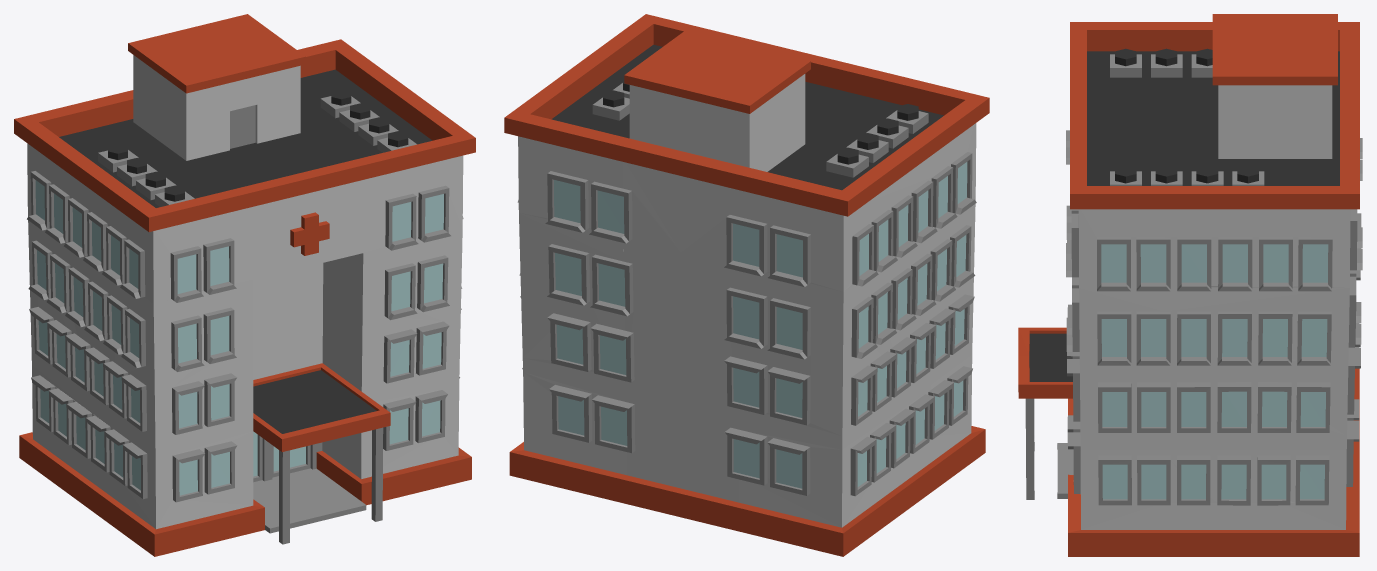
Rendered from hospital.glb.
3 renders of one model, left to right at view 1: azimuth 30°, elevation 25°; view 2: azimuth 150°, elevation 25°; view 3: azimuth 270°, elevation 25°, orthographic. The views are drawn at different scales.
Size of the model in its own units: 4.1 by 4.75 by 3.46.
